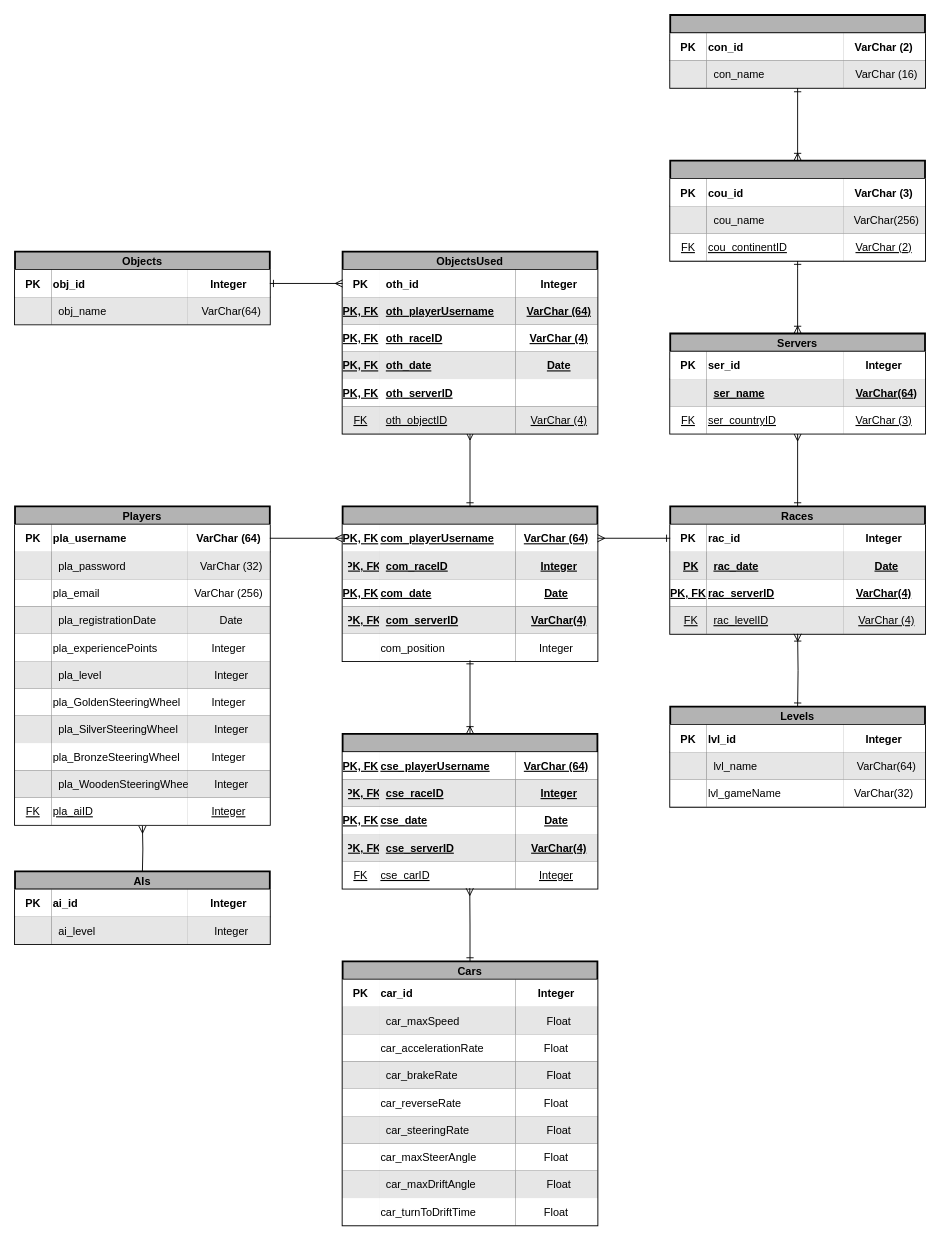
This 940x1240 diagram has some shape labels left out. The shapes that lost their labels are listed below. From the top down, each one's box as (x1, y1, x2, y2) in pixels, then its label:
(669, 14, 925, 88): Continents
(669, 159, 925, 261): Countries
(341, 505, 598, 662): Competitors
(341, 733, 598, 889): CarSetups
